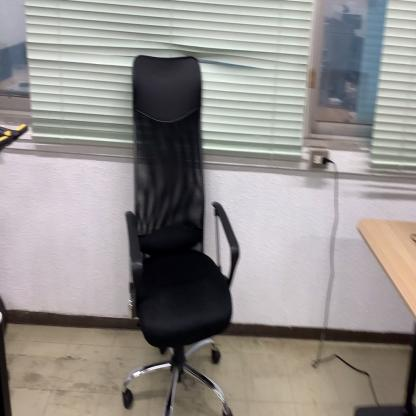chair: (121, 53, 241, 416)
